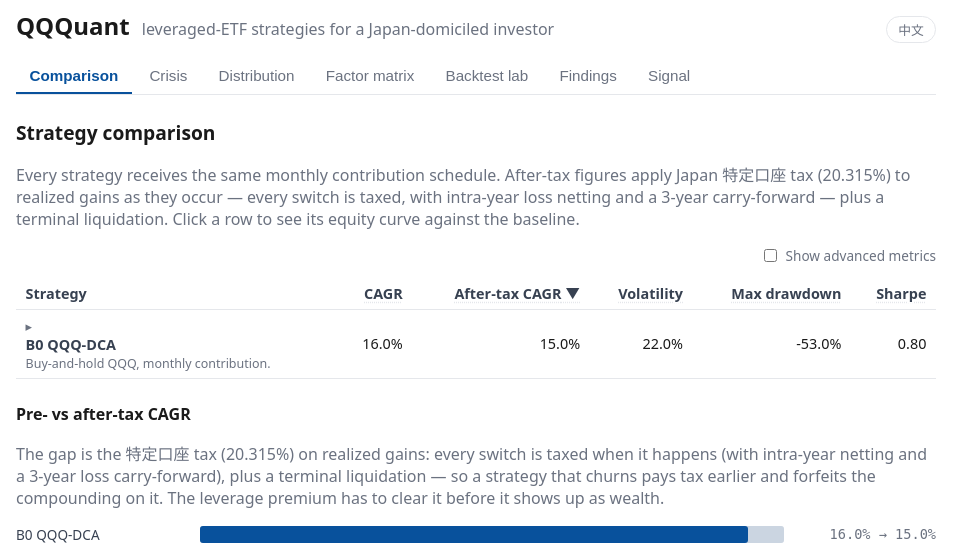
Test: switching tabs loads the signal view
Expected: the heading "Strategy comparison" is shown, [16,119,215,146]
Step 1. Click the button "Signal" → (669, 77), box [634,59,704,94]
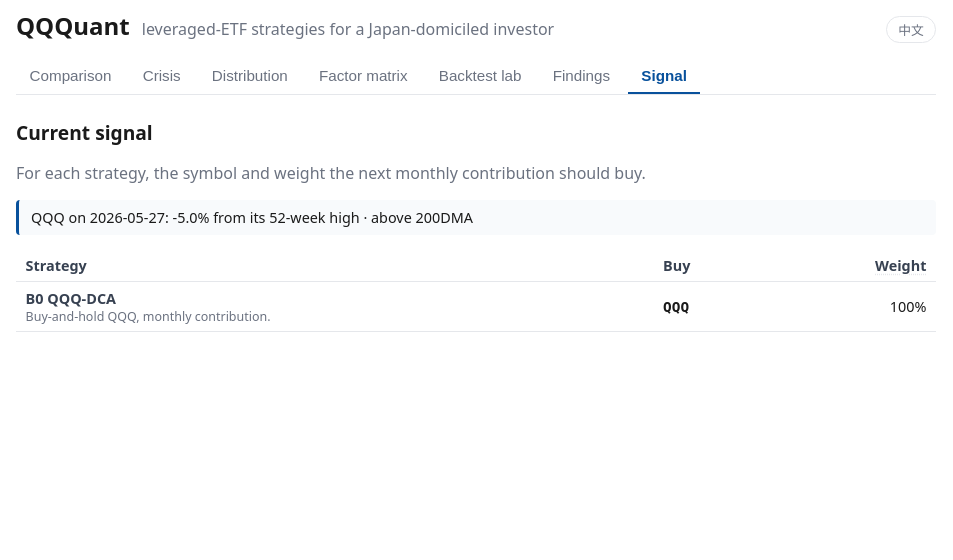
Result: the text with test id "context" shows "above 200DMA" at [31,208,473,227]
